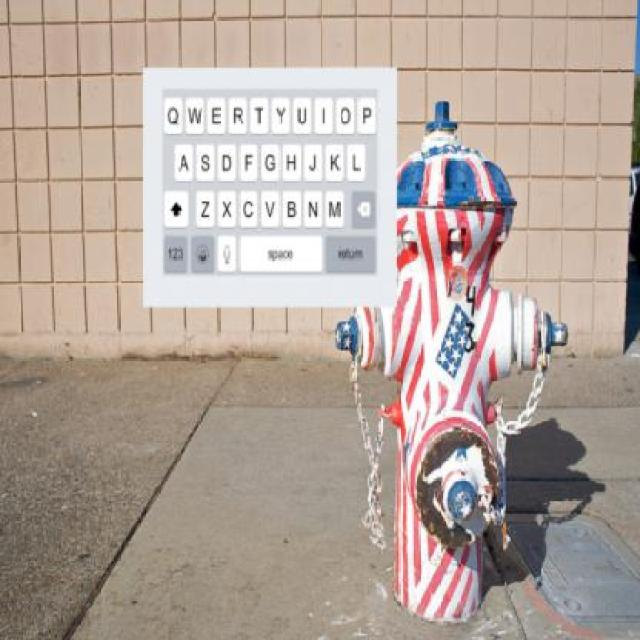keyboard: (160, 68, 387, 284)
